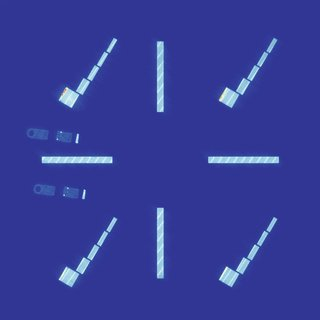overheated: (219, 90, 226, 101), (62, 87, 67, 97), (223, 266, 228, 273), (60, 273, 64, 278)
